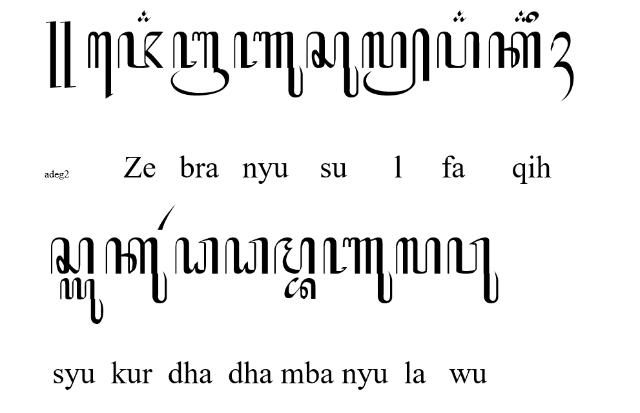-l: (362, 28, 430, 96)
_b: (284, 278, 316, 300)
_h1: (550, 30, 574, 102)
_r1: (157, 206, 175, 230)
adeg2: (44, 21, 76, 89)
alt: (514, 9, 528, 23), (137, 10, 151, 22), (452, 10, 466, 22)
br: (170, 31, 230, 95)
dh: (174, 237, 220, 275), (224, 237, 268, 275)
e1: (88, 31, 114, 99)
i: (526, 10, 538, 24)
j: (117, 31, 163, 69)
k: (488, 31, 540, 69)
ku: (104, 237, 168, 303)
l: (395, 238, 441, 274)
m: (274, 237, 316, 275)
nyu1: (233, 31, 303, 98), (323, 237, 392, 304)
p: (436, 31, 480, 69)
s: (50, 237, 94, 275)
su: (306, 31, 360, 98)
wu: (446, 237, 499, 304)
yu: (58, 277, 104, 325)
